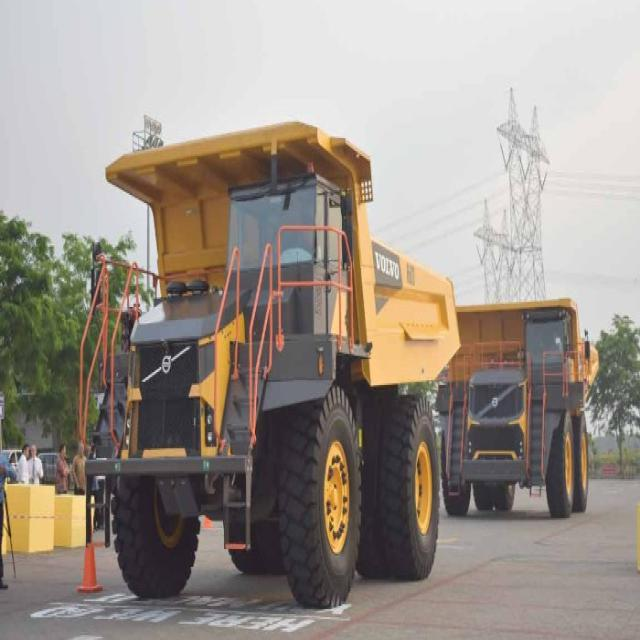dump_truck: (90, 123, 445, 601), (454, 291, 594, 523)
